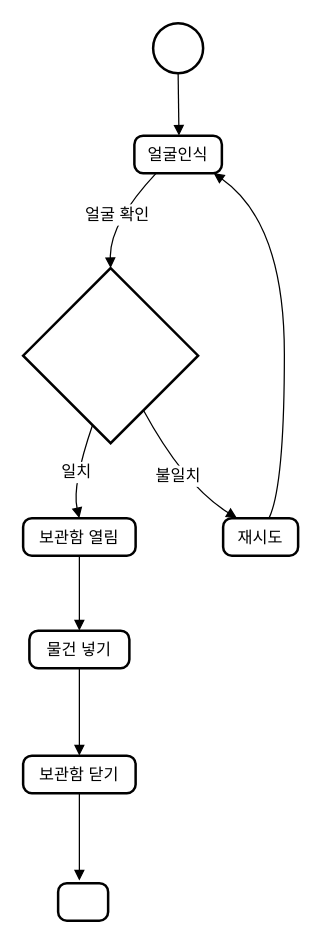
Some shapes in this 320 by 943 pixel diagram are drawn without their labels. The centre of each missing label's shape, as x and y in pixels:
"시작" belongs at [177,47].
"얼굴 일치 여부" belongs at [110,355].
"종료" belongs at [82,901].
